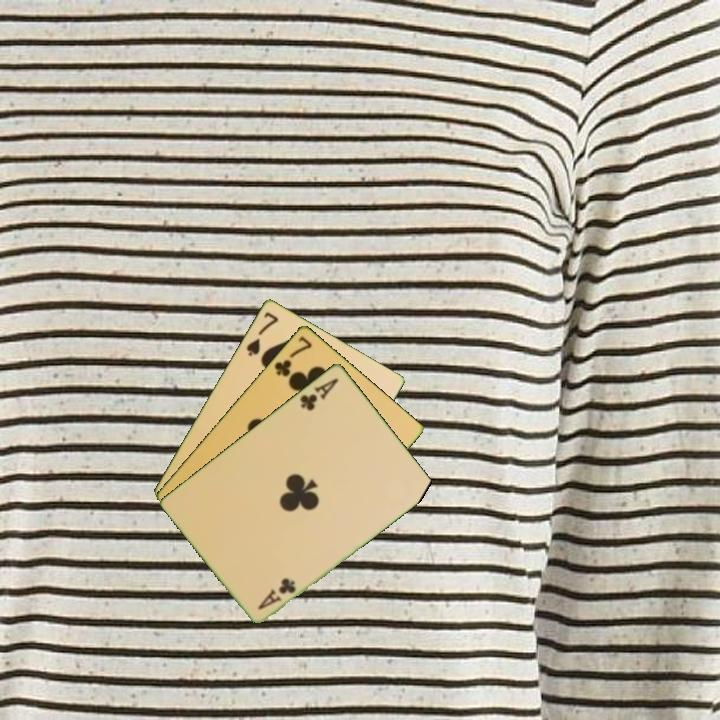7c: (271, 332, 315, 379)
7s: (243, 308, 281, 359)
Ac: (296, 374, 341, 413), (254, 574, 299, 612)
